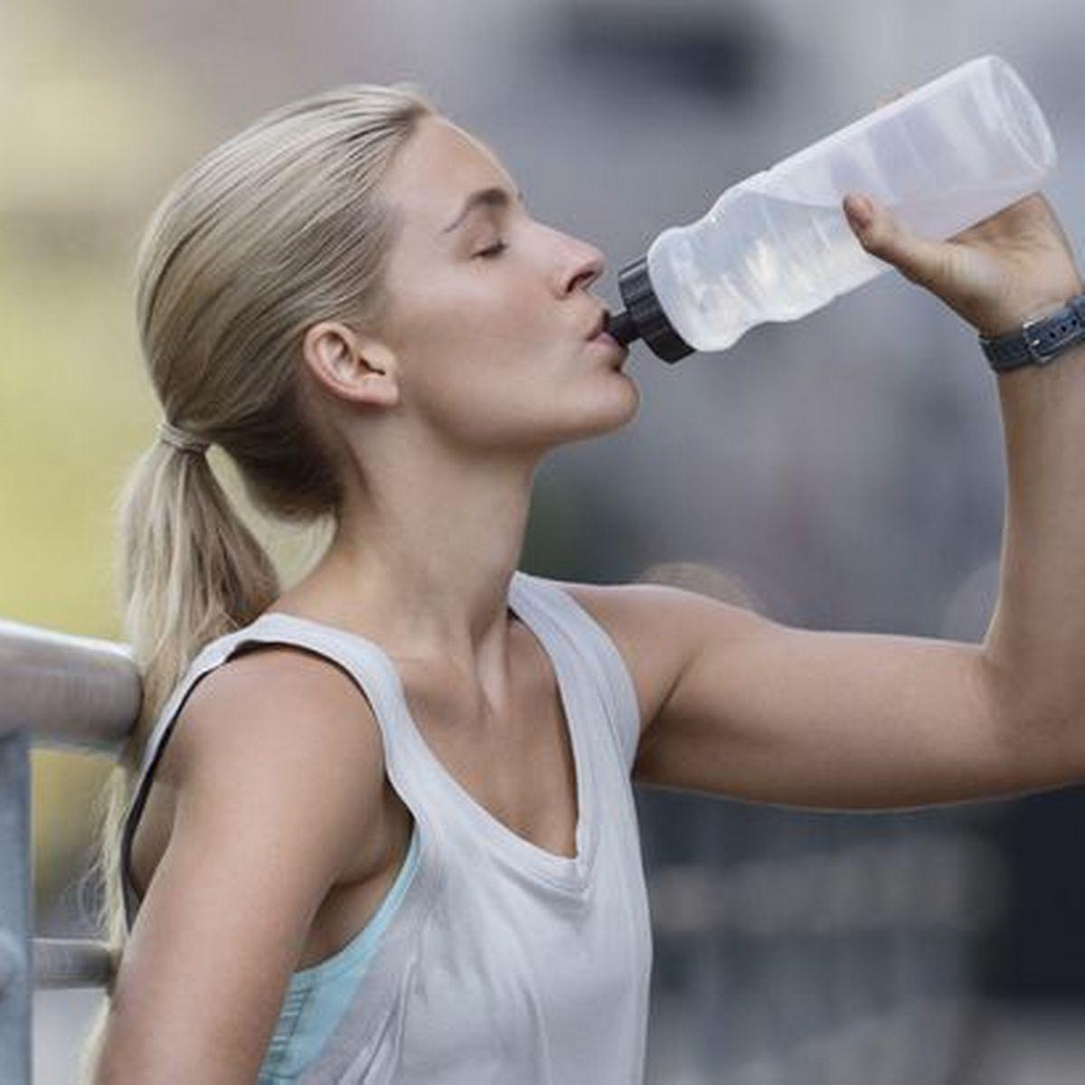gym bottle: (598, 53, 1079, 366)
